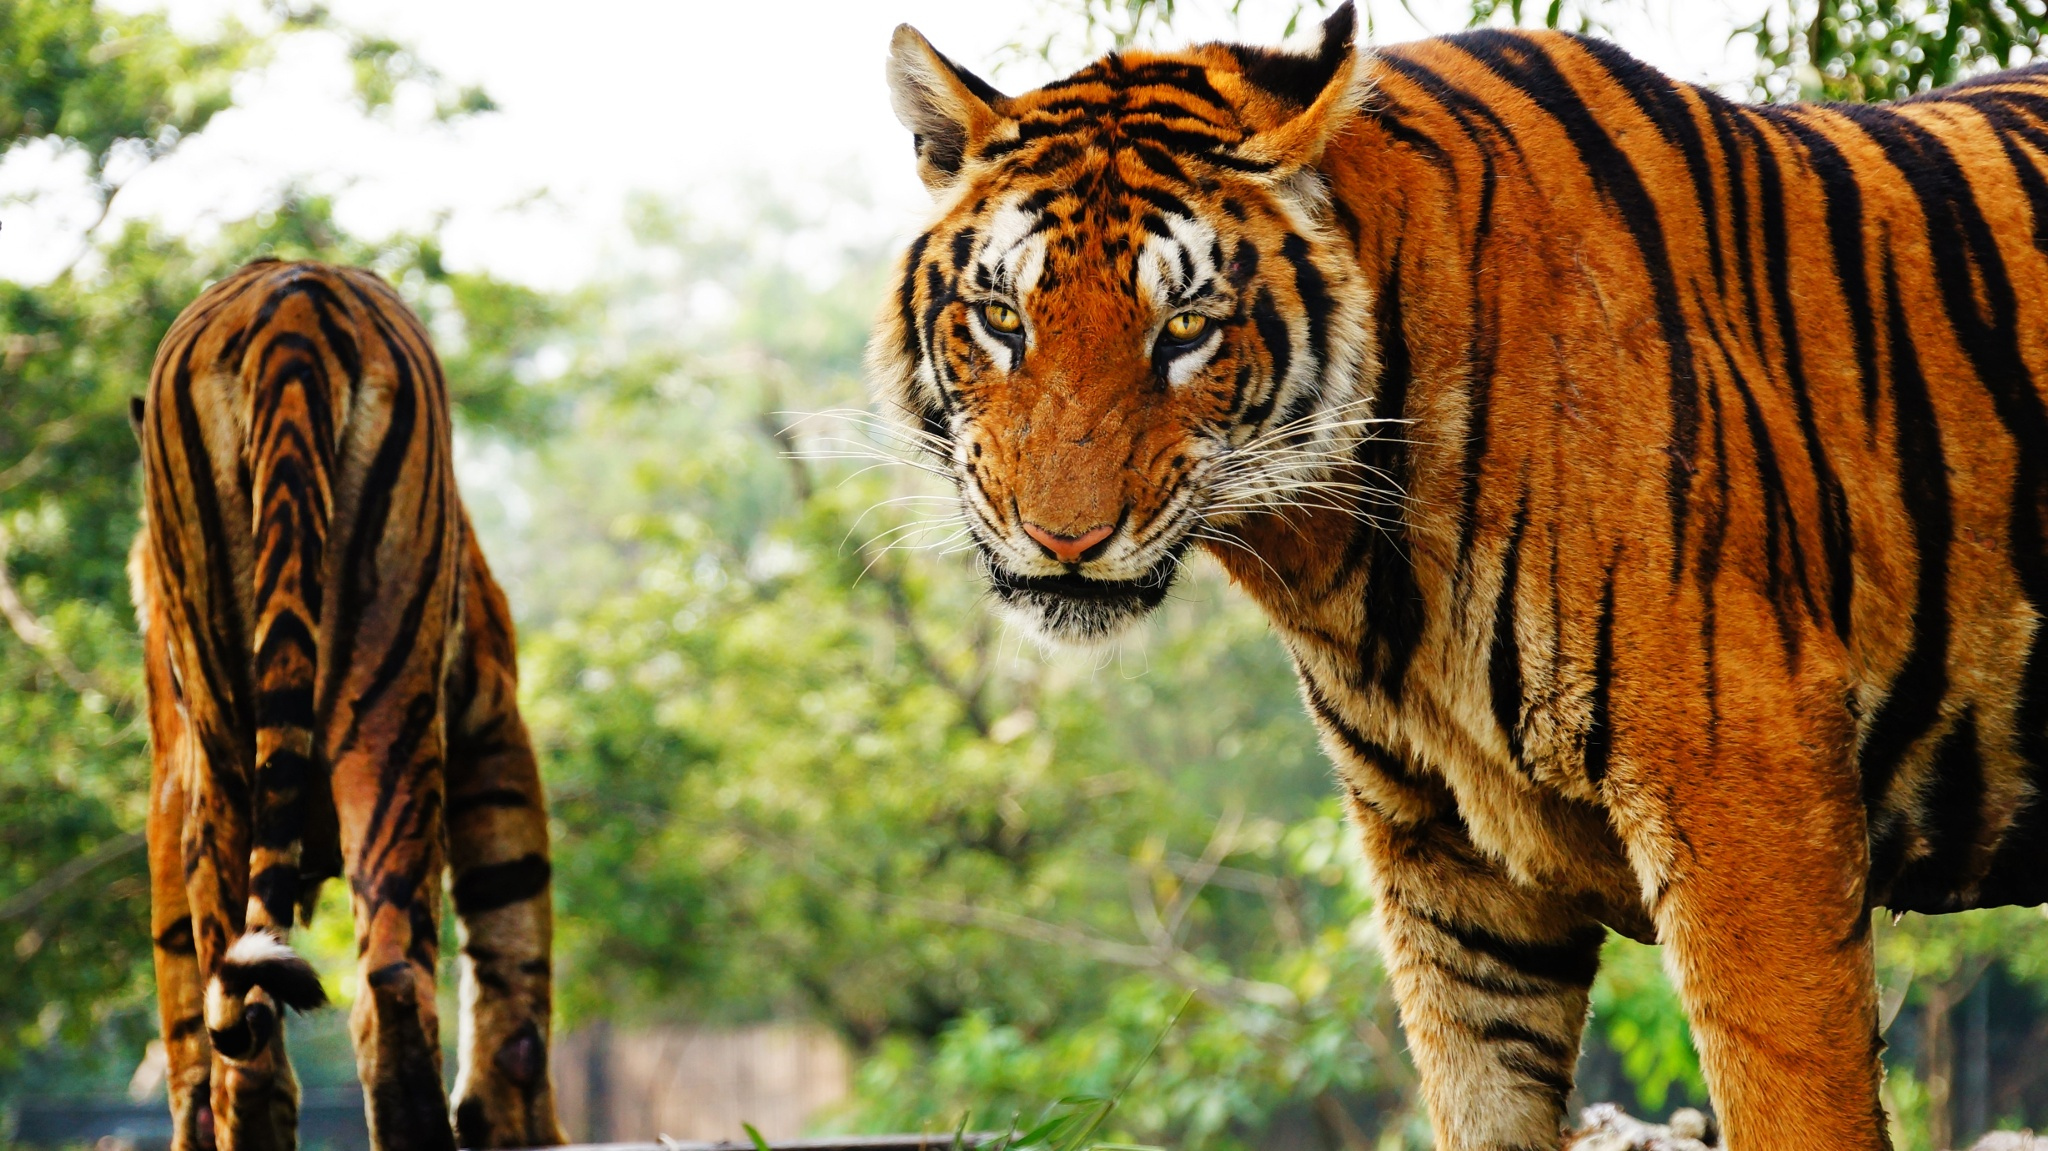tiger: (845, 39, 1983, 1088), (103, 207, 602, 1151)
